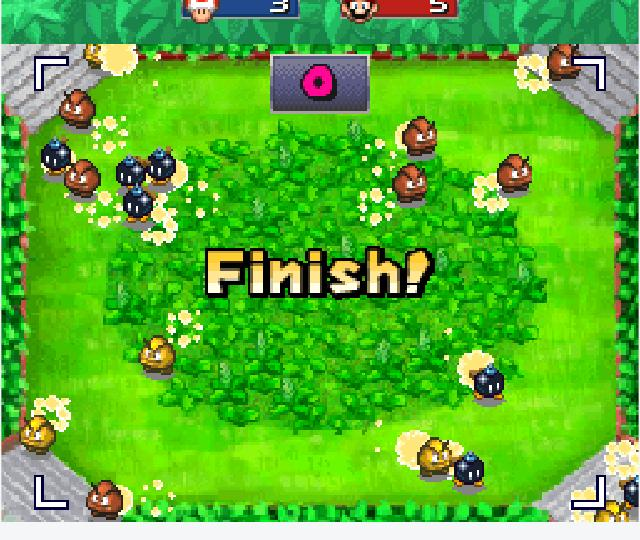bomb: (466, 358, 512, 407), (449, 448, 492, 492), (38, 136, 74, 178), (118, 185, 156, 223), (143, 144, 178, 184), (113, 155, 149, 193), (620, 470, 640, 508)
goomba: (133, 329, 184, 383), (82, 476, 127, 522), (492, 152, 535, 198), (15, 412, 57, 457), (56, 88, 98, 133), (415, 435, 455, 482), (400, 114, 441, 158), (62, 158, 103, 201), (390, 162, 429, 205), (544, 43, 583, 84), (593, 499, 632, 524), (83, 38, 104, 70)
